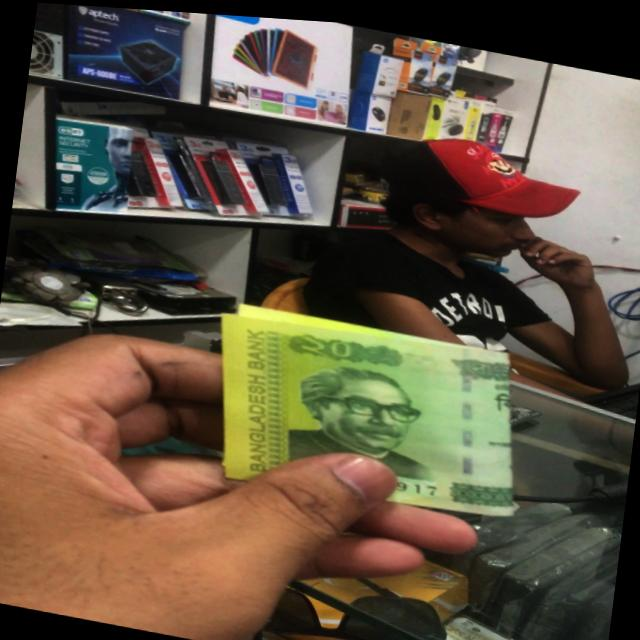Taka: (195, 287, 532, 522)
